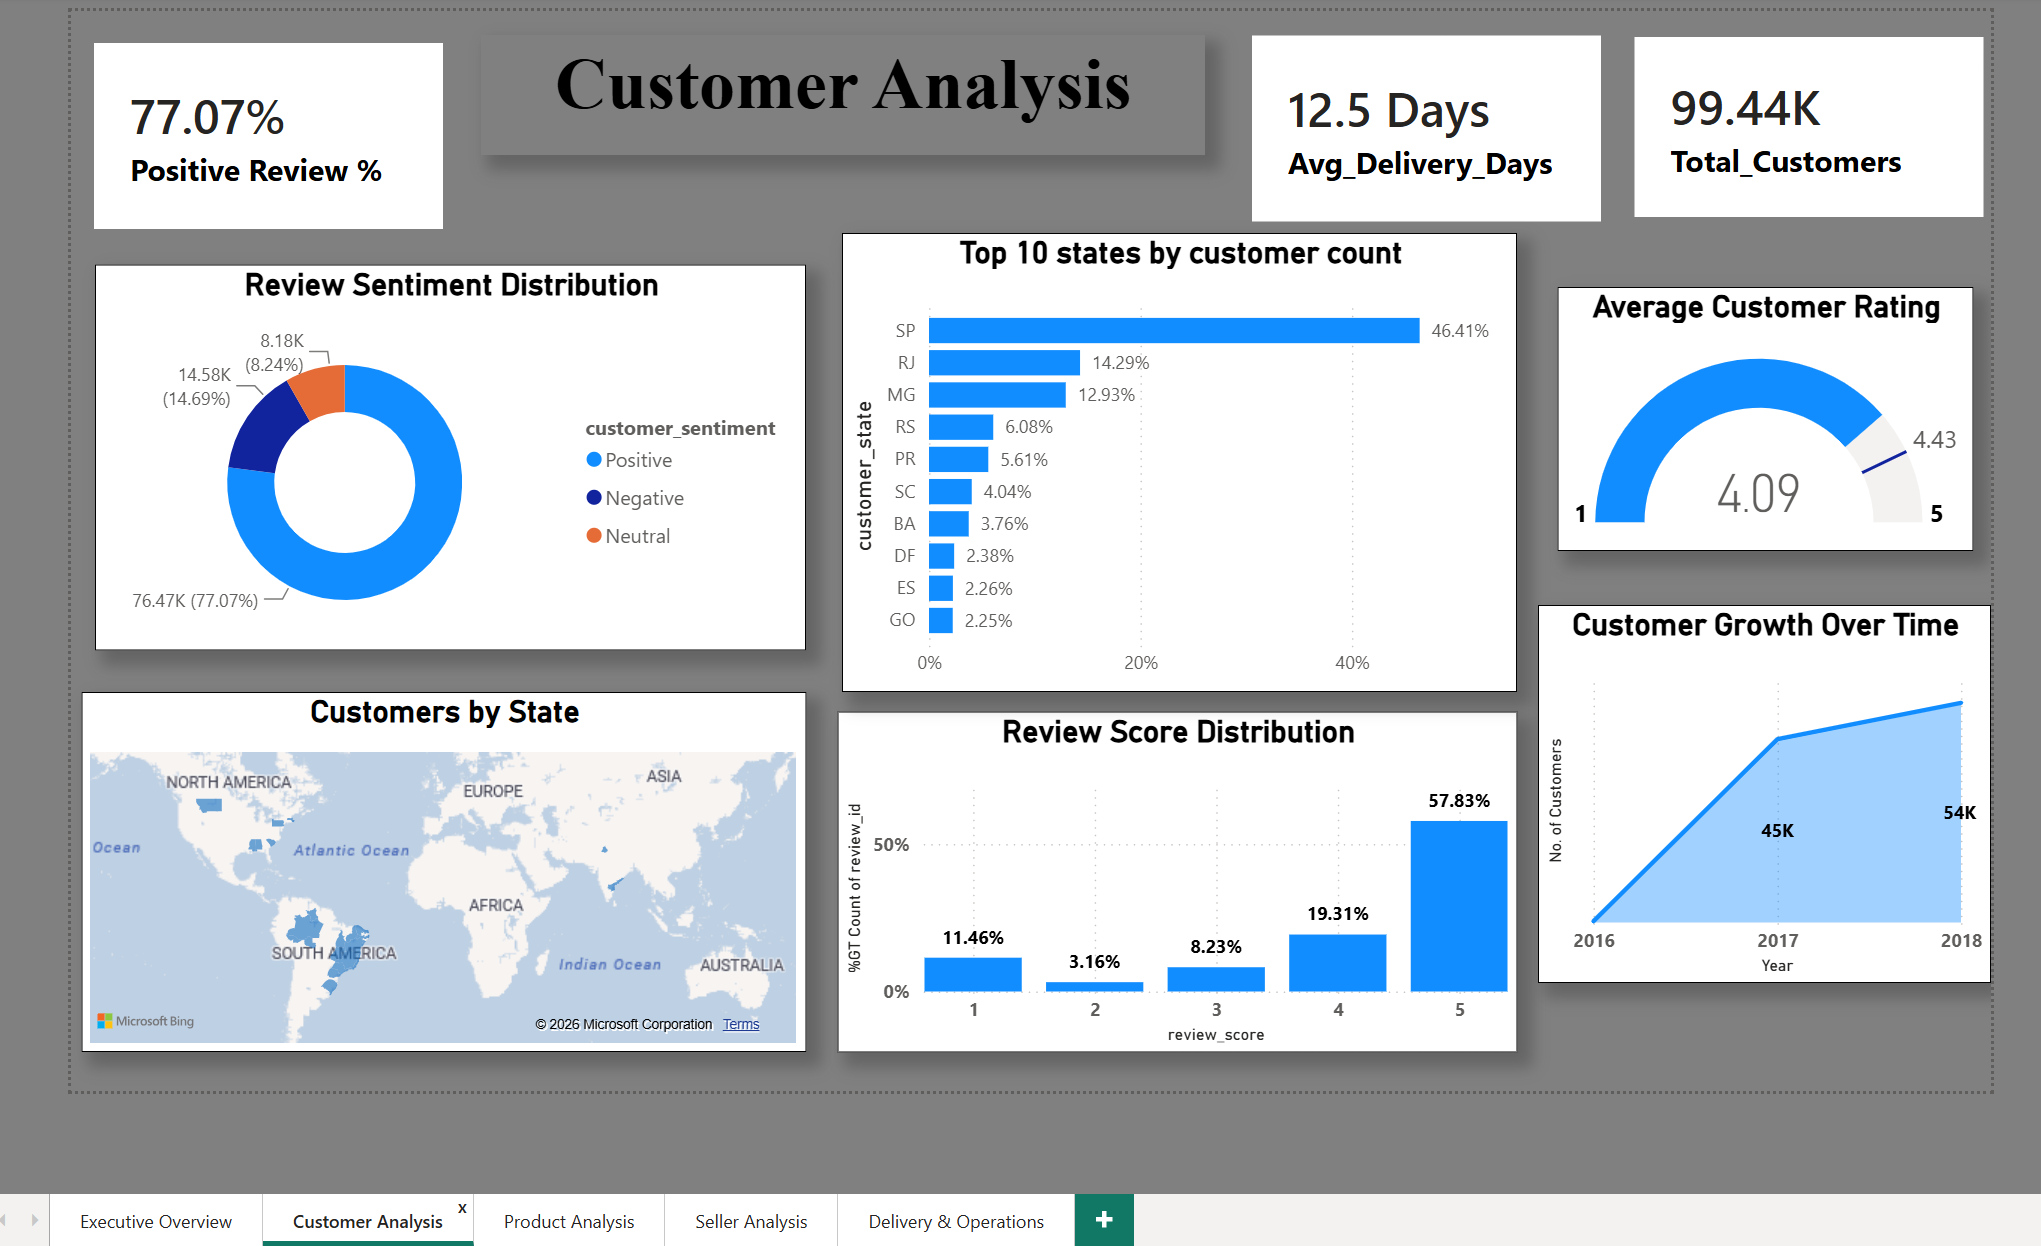

This screenshot's page, from the dashboard's own definition file:
{"tool":"powerbi","page":{"name":"Customer Analysis","canvas":[1280,720],"ordinal":1},"visuals":[{"type":"cardVisual","fields":{"Data":["new_measure.Avg_Delivery_Days_Text1"]},"box":[782.2,11.1,242.9,134.3],"z":0},{"type":"filledMap","title":"Customers by State","fields":{"Category":["GOLD dim_customers.customer_state"]},"box":[6.7,454.4,482.9,240],"z":1000},{"type":"donutChart","title":"Review Sentiment Distribution","fields":{"Category":["GOLD fact_order_reviews.customer_sentiment"],"Y":["CountNonNull(GOLD fact_order_reviews.customer_key)"]},"box":[15.6,168.9,474.4,256.7],"z":2000},{"type":"textbox","box":[273.3,15.6,482.9,80],"z":3000},{"type":"columnChart","title":"Review Score Distribution","fields":{"Category":["GOLD fact_order_reviews.review_score"],"Y":["CountNonNull(GOLD fact_order_reviews.review_id)"]},"box":[511.1,466.7,453.3,227.8],"z":4000},{"type":"clusteredBarChart","title":"Top 10 states by customer count","fields":{"Category":["GOLD dim_customers.customer_state"],"Y":["CountNonNull(GOLD dim_customers.customer_key)"]},"box":[514.4,147.8,450,306.7],"z":5000},{"type":"cardVisual","fields":{"Data":["new_measure.Positive Review %"]},"box":[10,15.6,242.9,134.3],"z":6000},{"type":"cardVisual","fields":{"Data":["new_measure.Total_Customers"]},"box":[1036.7,12.2,242.9,130],"z":7000},{"type":"gauge","title":"Average Customer Rating","fields":{"MaxValue":["Max(GOLD fact_order_reviews.review_score)"],"MinValue":["Min(GOLD fact_order_reviews.review_score)1"],"Y":["Avg(GOLD fact_order_reviews.review_score)"]},"box":[991.1,184.4,276.7,175.6],"z":8000},{"type":"stackedAreaChart","title":"Customer Growth Over Time","fields":{"Category":["dim_date.Date.Variation.Date Hierarchy.Year"],"Y":["CountNonNull(GOLD dim_customers.customer_id)"]},"box":[977.8,395.6,302.2,252.2],"z":9000}]}

Visuals, with their boxes on the page's 1280x720 design canvas (x1, y1, x2, y2). These are canvas units, not pixel positions in the 2041x1246 screenshot, which may show the page scaled, cropped or inside an application window:
cardVisual - new_measure.Avg_Delivery_Days_Text1: 782, 11, 1025, 145
"Customers by State" filledMap: 7, 454, 490, 694
"Review Sentiment Distribution" donutChart: 16, 169, 490, 426
textbox: 273, 16, 756, 96
"Review Score Distribution" columnChart: 511, 467, 964, 694
"Top 10 states by customer count" clusteredBarChart: 514, 148, 964, 454
cardVisual - new_measure.Positive Review %: 10, 16, 253, 150
cardVisual - new_measure.Total_Customers: 1037, 12, 1280, 142
"Average Customer Rating" gauge: 991, 184, 1268, 360
"Customer Growth Over Time" stackedAreaChart: 978, 396, 1280, 648
